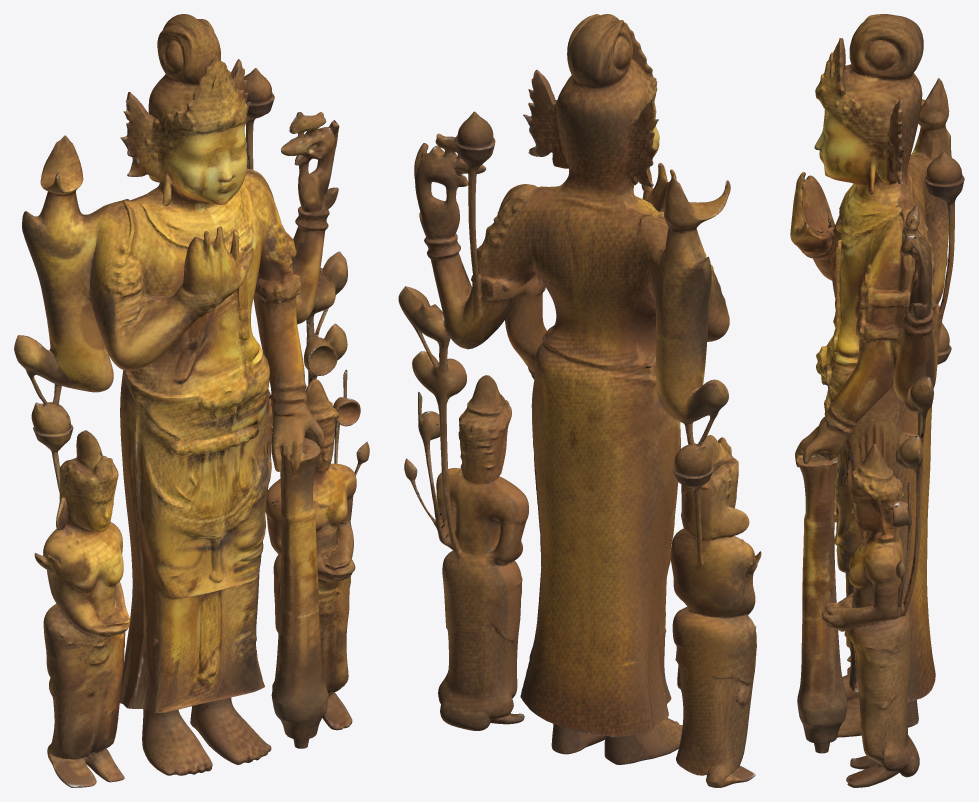
Rendered from patung.glb.
The picture shows the model from 3 angles, left to right: view 1: azimuth 30°, elevation 25°; view 2: azimuth 150°, elevation 25°; view 3: azimuth 270°, elevation 25°; orthographic projection. The views are drawn at different scales.
Visible parts, largest first — view 1: model; view 2: model; view 3: model.
Part boxes in pixels (x1,y1,x2,y2): model: [14, 14, 369, 787]; model: [398, 14, 761, 787]; model: [790, 14, 964, 787].
Bounding box in the file's own units: 0.9295 × 1.9 × 0.4247.
1 material, 1 textured.
